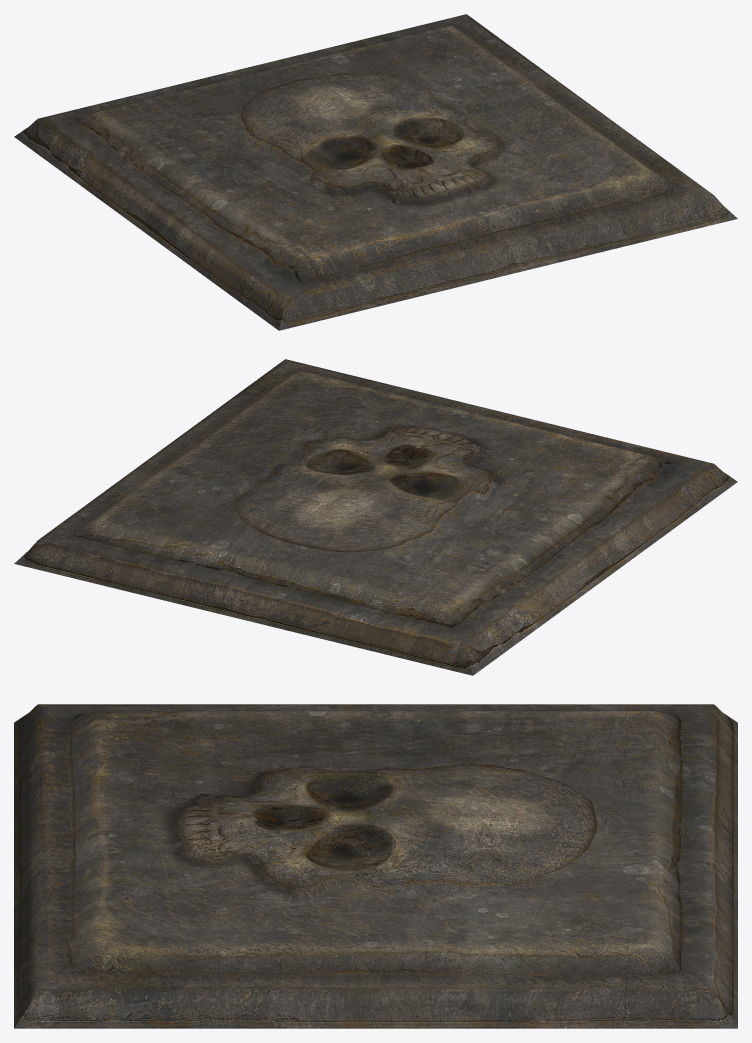
File: skull_ornament_1.glb
3 renders of one model, top to bottom at view 1: azimuth 30°, elevation 25°; view 2: azimuth 150°, elevation 25°; view 3: azimuth 270°, elevation 25°, orthographic. The views are drawn at different scales.
Parts seen in each view (by area): view 1: skullOrnament; view 2: skullOrnament; view 3: skullOrnament.
Boxes of the visible parts, box(x1,y1,x2,y2) form: skullOrnament: box(14, 14, 737, 330); skullOrnament: box(14, 359, 737, 675); skullOrnament: box(14, 704, 737, 1028).
Size of the model in its own units: 0.5 by 0.05 by 0.5.
Materials: 1 (1 with a texture image).
